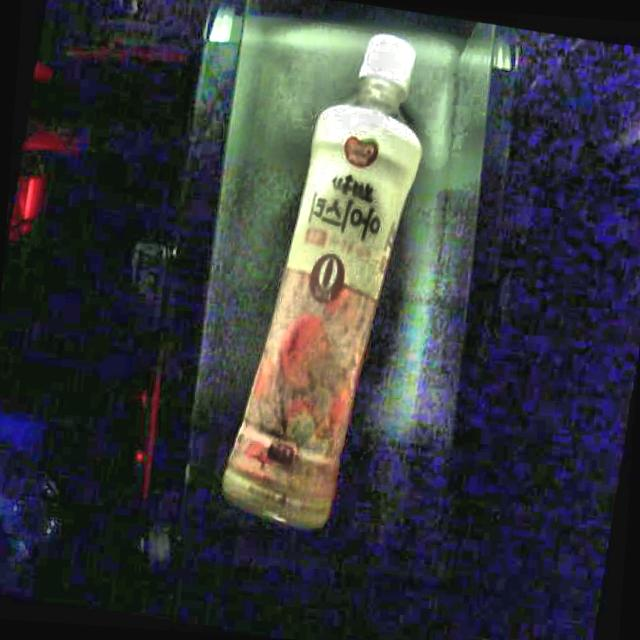plastic bottle: (222, 32, 421, 526)
